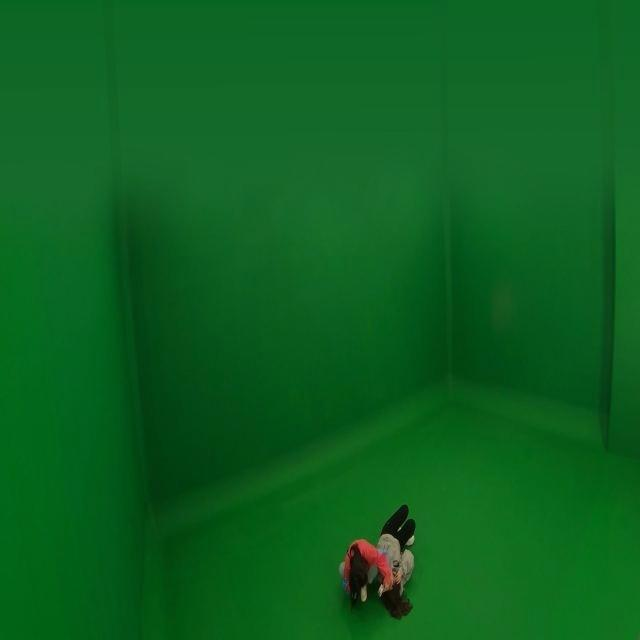fight: (335, 501, 418, 623)
